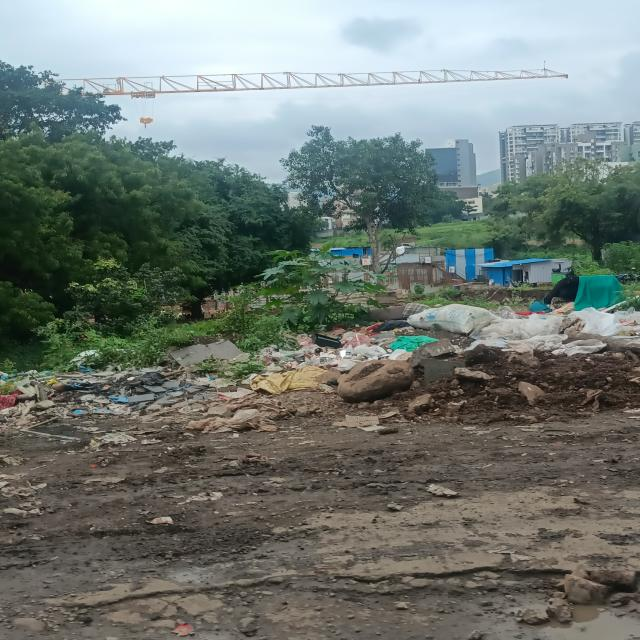garbage: (5, 338, 346, 436), (353, 304, 640, 394)
